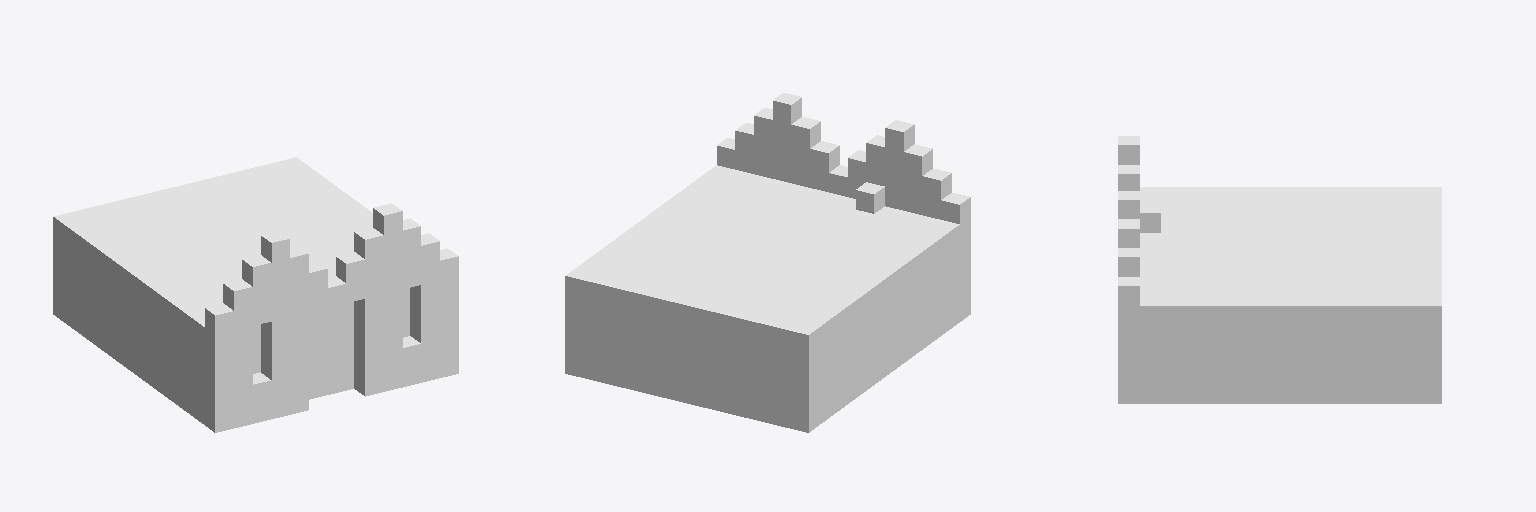
Rendered from TankGun 1.obj.
The picture shows the model from 3 angles: view 1: azimuth 30°, elevation 25°; view 2: azimuth 150°, elevation 25°; view 3: azimuth 270°, elevation 25°; orthographic projection.
Size of the model in its own units: 13 by 9 by 15.